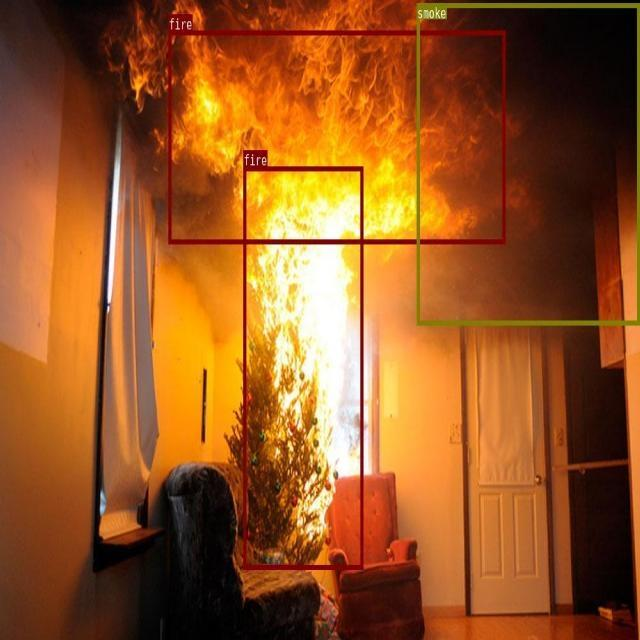fire: (168, 30, 504, 243), (243, 166, 362, 568)
smoke: (416, 3, 639, 324)
